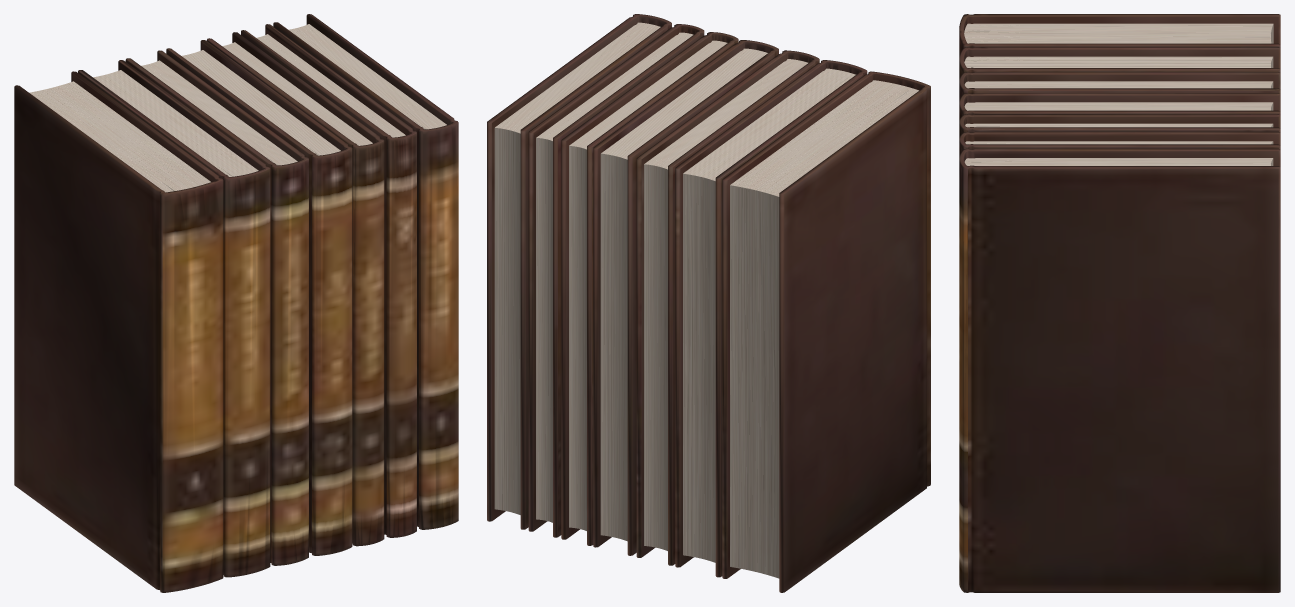
File: livros.glb
The picture shows the model from 3 angles, left to right: view 1: azimuth 30°, elevation 25°; view 2: azimuth 150°, elevation 25°; view 3: azimuth 270°, elevation 25°; orthographic projection. The views are drawn at different scales.
Parts seen in each view (by area): view 1: book_encyclopedia_set_01_book01, book_encyclopedia_set_01_book02, book_encyclopedia_set_01_book04, book_encyclopedia_set_01_book07, book_encyclopedia_set_01_book03, book_encyclopedia_set_01_book06, book_encyclopedia_set_01_book05; view 2: book_encyclopedia_set_01_book01, book_encyclopedia_set_01_book02, book_encyclopedia_set_01_book04, book_encyclopedia_set_01_book07, book_encyclopedia_set_01_book03, book_encyclopedia_set_01_book06, book_encyclopedia_set_01_book05; view 3: book_encyclopedia_set_01_book07, book_encyclopedia_set_01_book01, book_encyclopedia_set_01_book02, book_encyclopedia_set_01_book03, book_encyclopedia_set_01_book04, book_encyclopedia_set_01_book05, book_encyclopedia_set_01_book06.
Part boxes in pixels (x1,y1,x2,y2): book_encyclopedia_set_01_book01: (14, 71, 223, 592); book_encyclopedia_set_01_book02: (78, 60, 270, 577); book_encyclopedia_set_01_book04: (166, 40, 352, 555); book_encyclopedia_set_01_book07: (273, 14, 458, 529); book_encyclopedia_set_01_book03: (125, 50, 308, 565); book_encyclopedia_set_01_book06: (241, 24, 416, 537); book_encyclopedia_set_01_book05: (206, 32, 384, 546); book_encyclopedia_set_01_book01: (722, 71, 930, 592); book_encyclopedia_set_01_book02: (675, 60, 867, 577); book_encyclopedia_set_01_book04: (593, 40, 778, 555); book_encyclopedia_set_01_book07: (487, 14, 671, 529); book_encyclopedia_set_01_book03: (636, 50, 819, 565); book_encyclopedia_set_01_book06: (528, 24, 704, 537); book_encyclopedia_set_01_book05: (561, 32, 738, 545); book_encyclopedia_set_01_book07: (959, 148, 1280, 592); book_encyclopedia_set_01_book01: (959, 14, 1280, 55); book_encyclopedia_set_01_book02: (959, 47, 1280, 78); book_encyclopedia_set_01_book03: (959, 72, 1280, 100); book_encyclopedia_set_01_book04: (959, 93, 1280, 119); book_encyclopedia_set_01_book05: (959, 114, 1280, 137); book_encyclopedia_set_01_book06: (959, 131, 1280, 155).
Bounding box in the file's own units: 0.1855 × 0.2374 × 0.1631.
2 materials, 2 textured.
